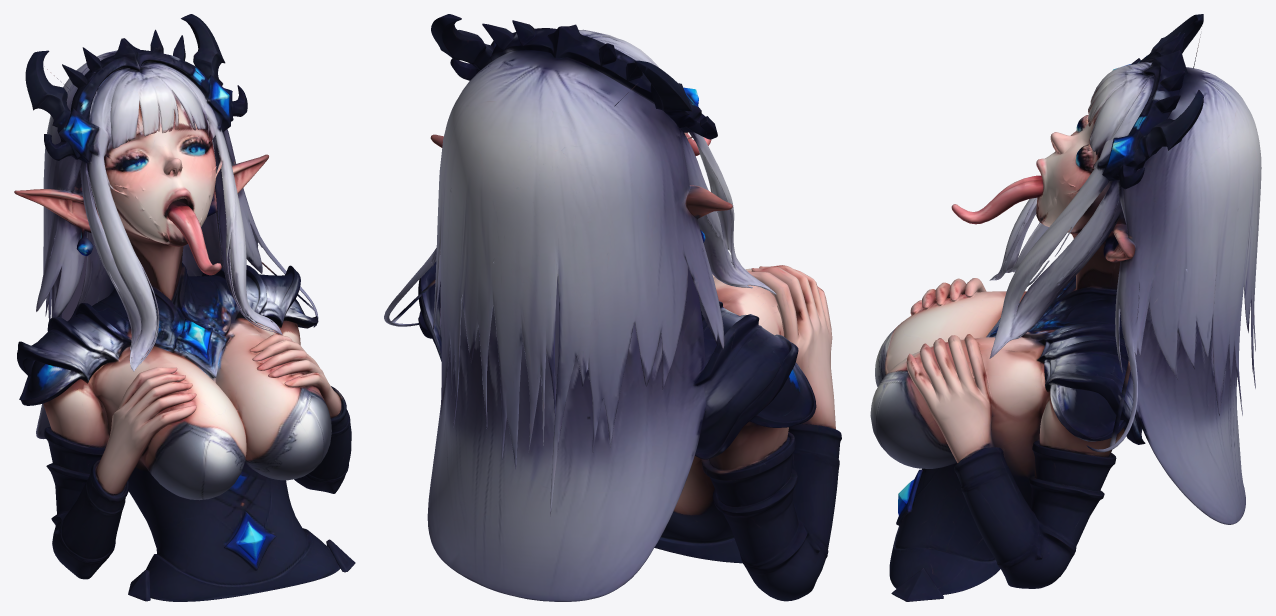
Rendered from 01a1a2e2-fbbb-7376-867a-614555fa77f7.glb.
3 renders of one model, left to right at view 1: azimuth 30°, elevation 25°; view 2: azimuth 150°, elevation 25°; view 3: azimuth 270°, elevation 25°, orthographic. The views are drawn at different scales.
Visible parts, largest first — view 1: node_0; view 2: node_0; view 3: node_0.
Boxes of the visible parts, x1,y1,x2,y2 form: node_0: (14, 14, 355, 601); node_0: (384, 14, 841, 601); node_0: (870, 14, 1261, 601).
Size of the model in its own units: 0.6808 by 0.9688 by 0.6912.
1 material, 1 textured.
